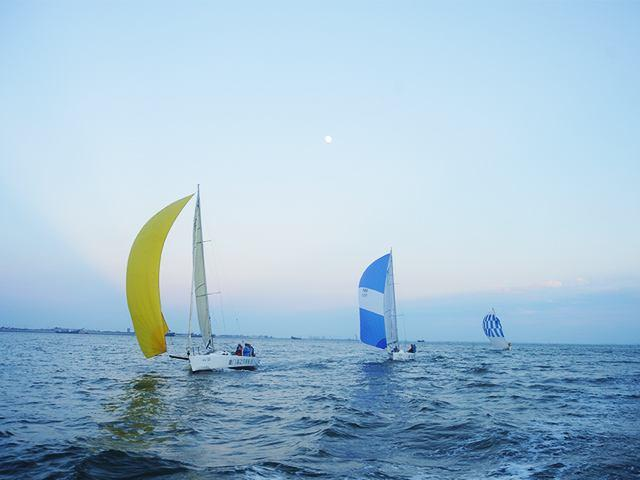fanchuan: (125, 179, 266, 385), (353, 246, 424, 363), (481, 309, 518, 355)
